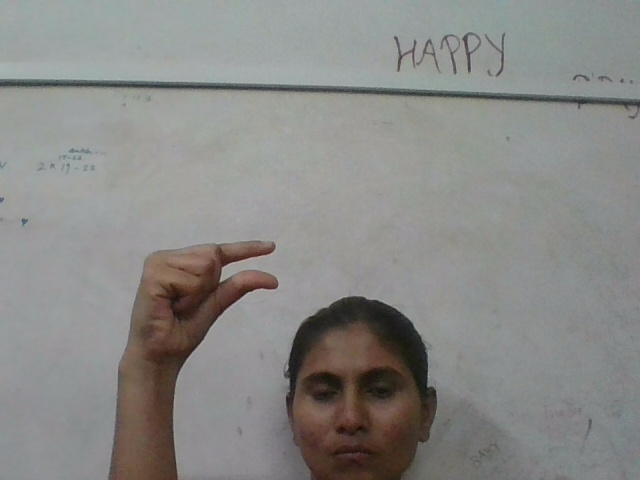No: (121, 234, 282, 370)
